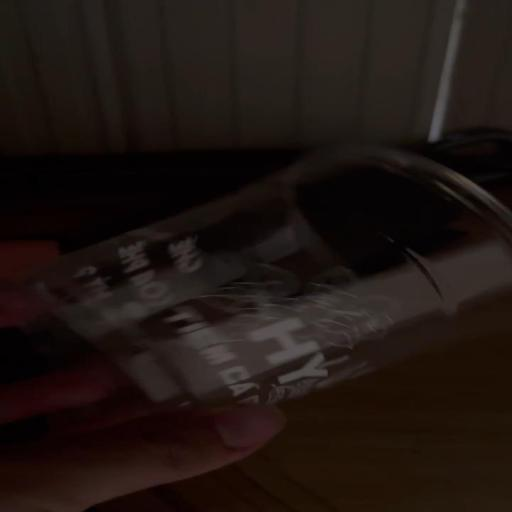ly_giay: (21, 146, 511, 408)
